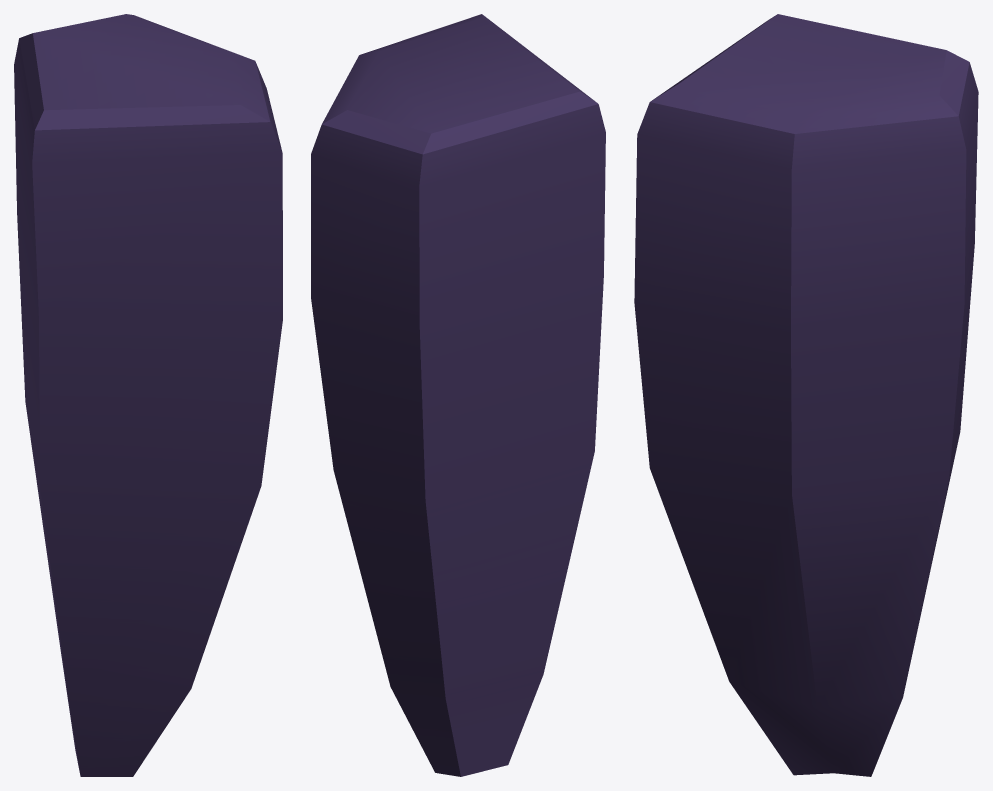
Rendered from island_floor_015.glb.
3 renders of one model, left to right at view 1: azimuth 30°, elevation 25°; view 2: azimuth 150°, elevation 25°; view 3: azimuth 270°, elevation 25°, orthographic. The views are drawn at different scales.
Parts seen in each view (by area): view 1: island_floor.015; view 2: island_floor.015; view 3: island_floor.015.
Boxes of the visible parts, box(x1,y1,x2,y2) form: island_floor.015: box(14, 14, 282, 776); island_floor.015: box(311, 14, 605, 776); island_floor.015: box(634, 14, 978, 776).
Bounding box in the file's own units: 0.1915 × 0.5134 × 0.2232.
